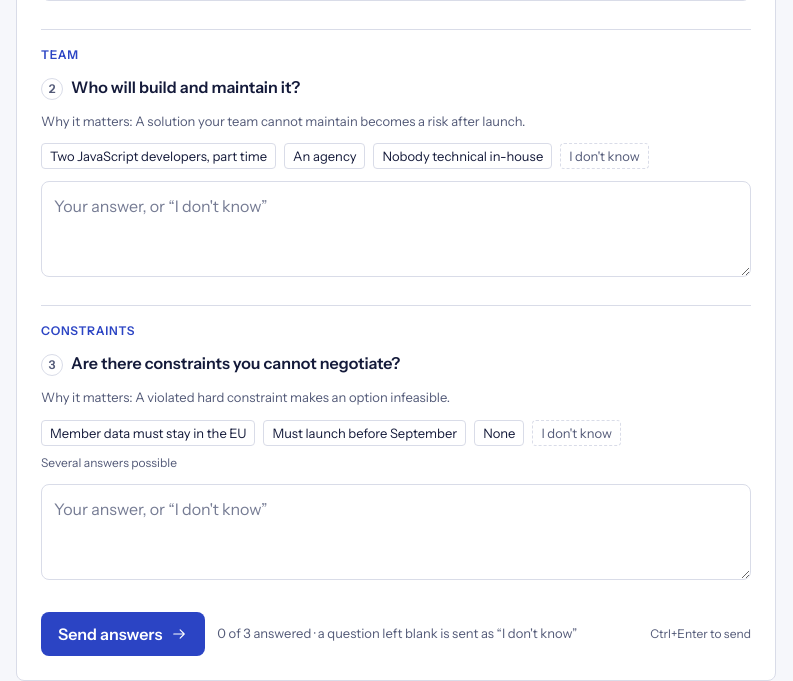
Test case: the interview's questions › add the example answers picked to the answer, and take them back when picked again
(page scrolled)
Step 1. Click the button "Member data must stay in the EU" → {"x": 148, "y": 432}, box [41,420,255,446]
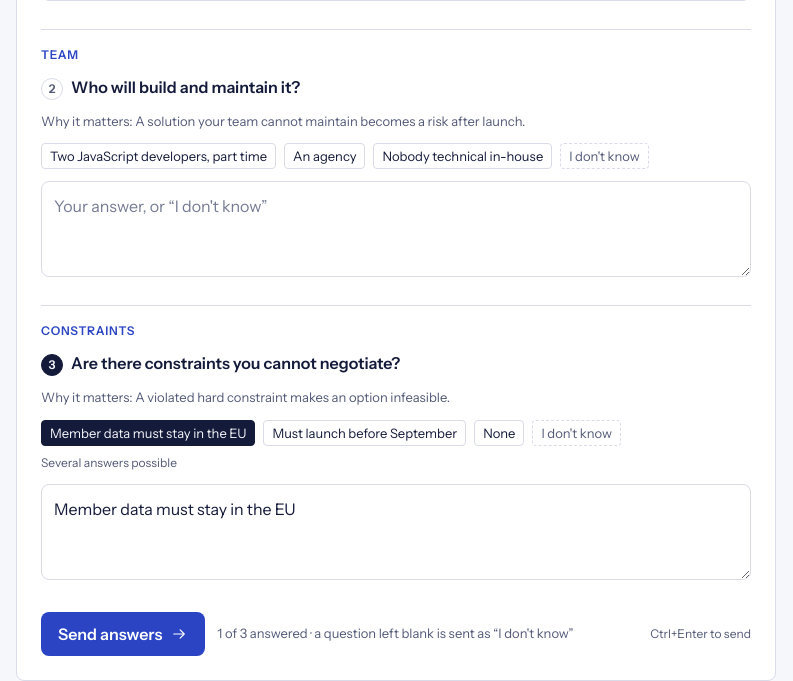
Step 2. Click the button "Must launch before September" → {"x": 365, "y": 432}, box [263,420,466,446]
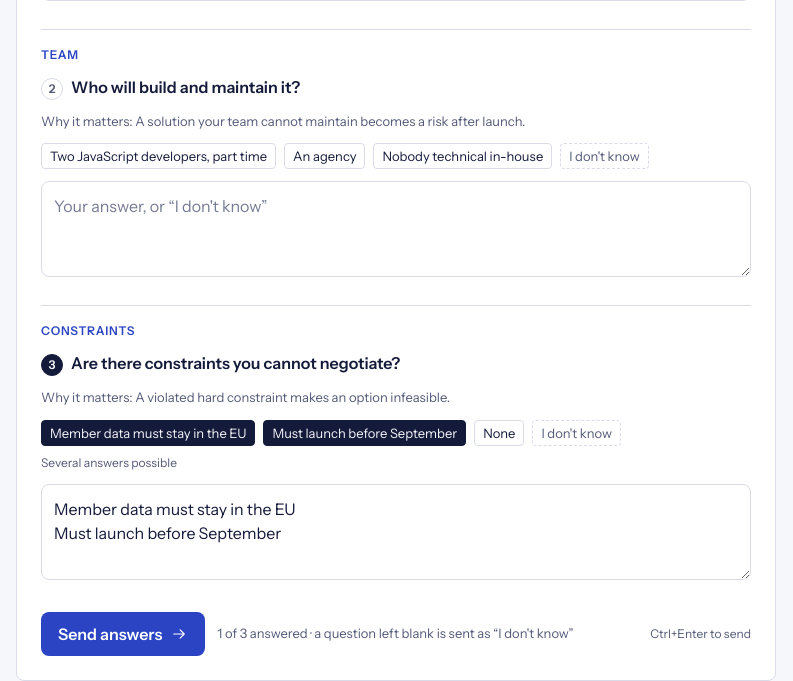
Check: the button "Member data must stay in the EU" is pressed
Step 3. Click the button "Member data must stay in the EU" → {"x": 148, "y": 432}, box [41,420,255,446]
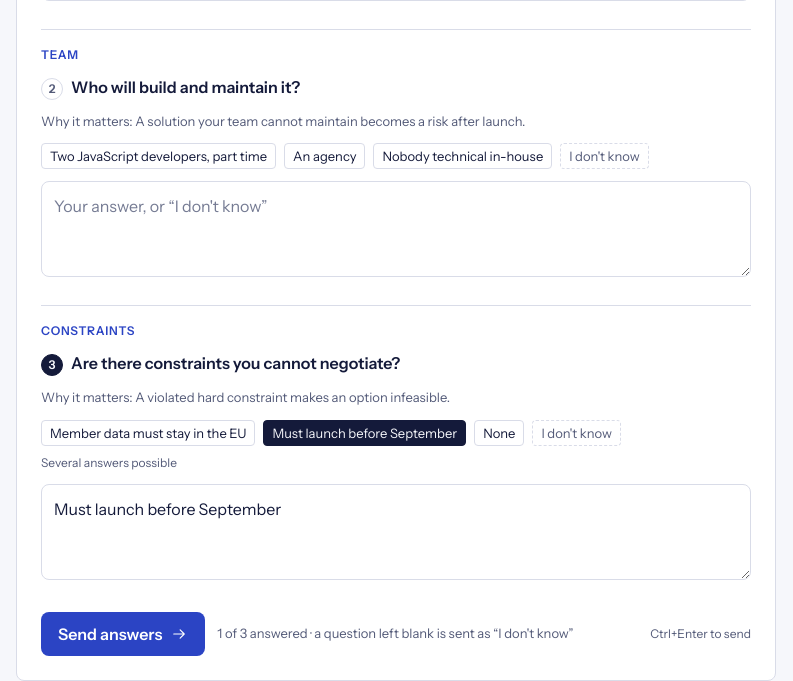
Check: the text "1 of 3 answered" is shown, box [217,625,308,641]
Check: the text box labelled "Are there constraints you cannot negotiate?" holds "Must launch before September", box [41,484,751,580]
